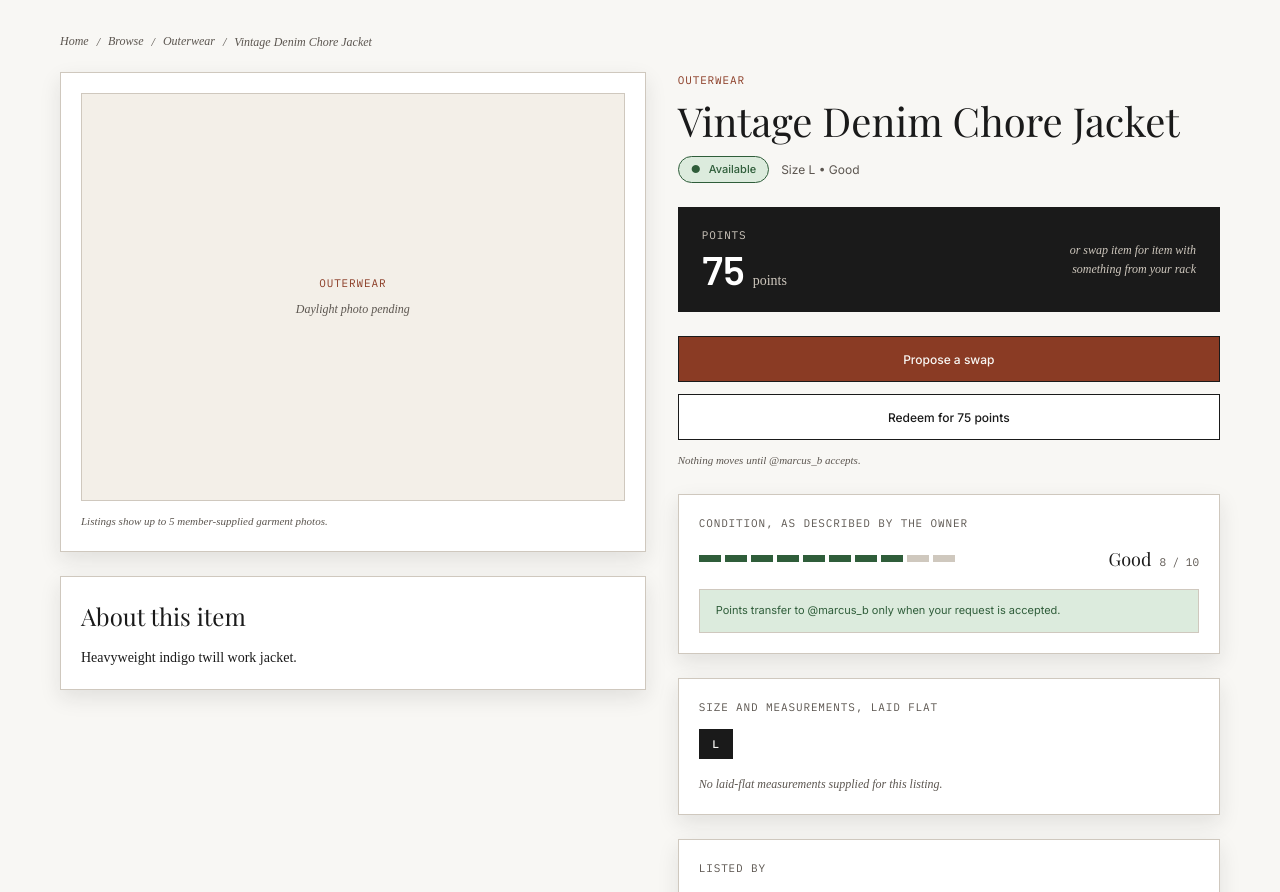
Test: ItemDetailPage Redeem Dialog & Propose Swap Wiring › confirms direct redeem, refreshes header balance via auth-change, and marks item redeemed
Click the button "Redeem for 75 points" at [949, 417], box [678, 394, 1220, 440]
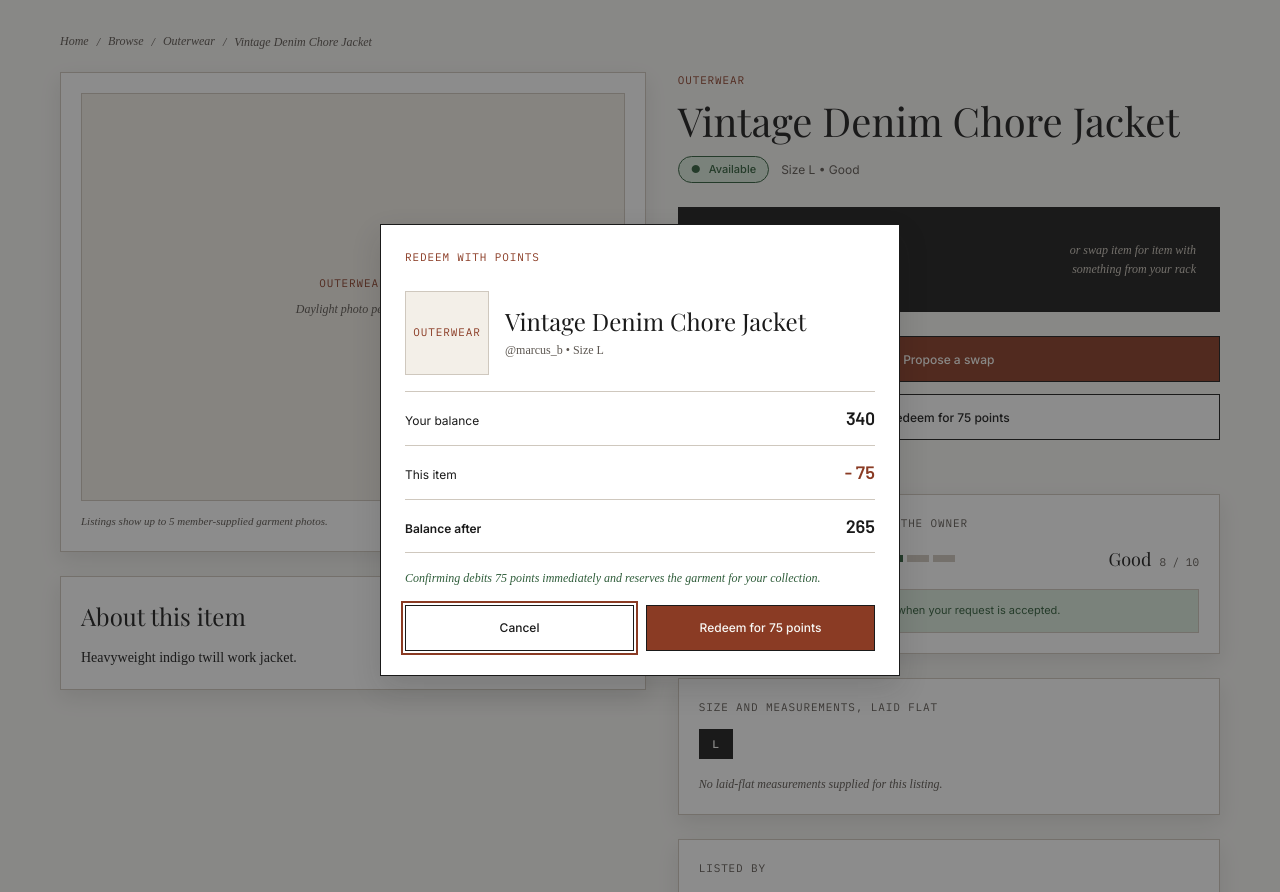
Click the button "Redeem for 75 points" at [760, 628], box [646, 605, 875, 651]
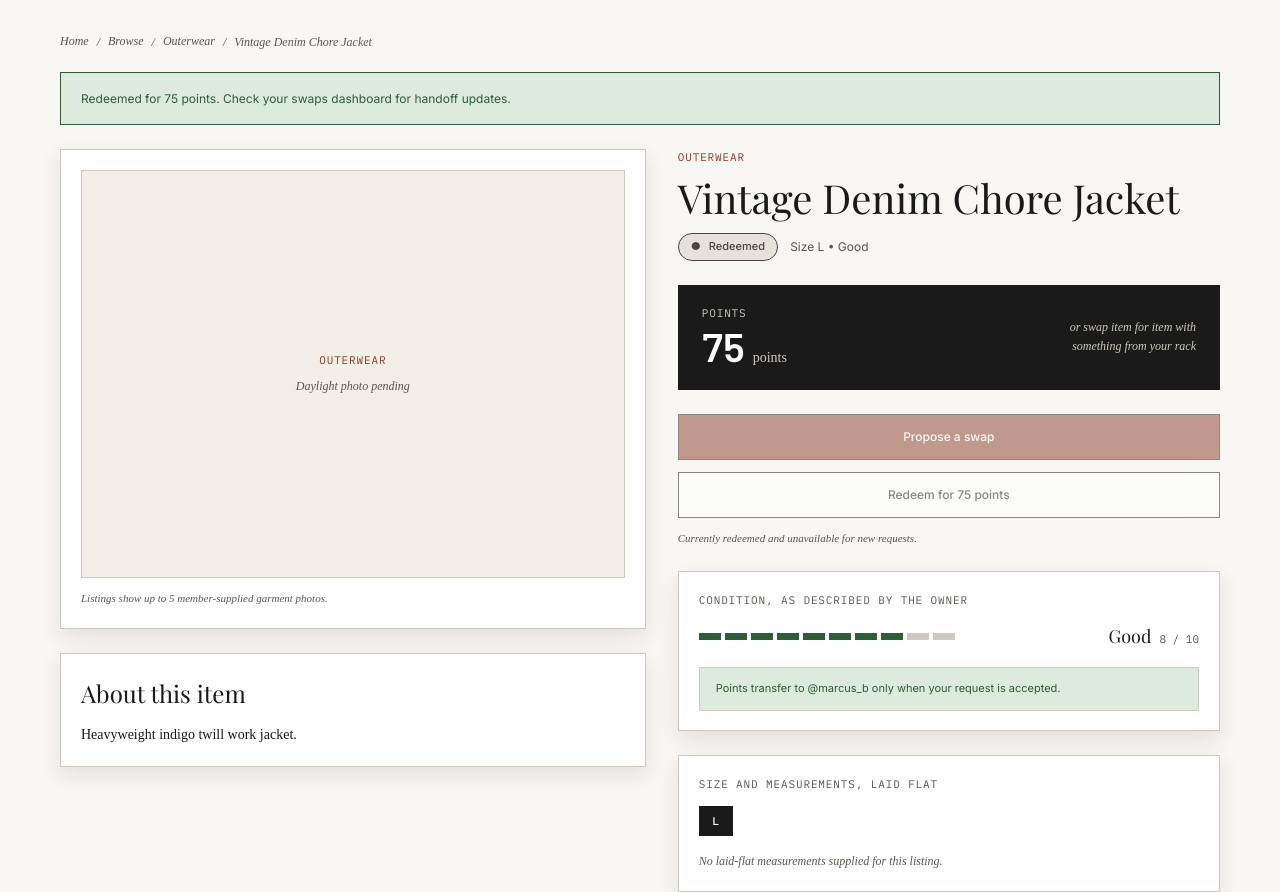
Expected: the dialog is gone
Expected: the text "Redeemed for 75 points. Check your swaps dashboard for handoff updates." is shown, [60, 72, 1220, 125]
